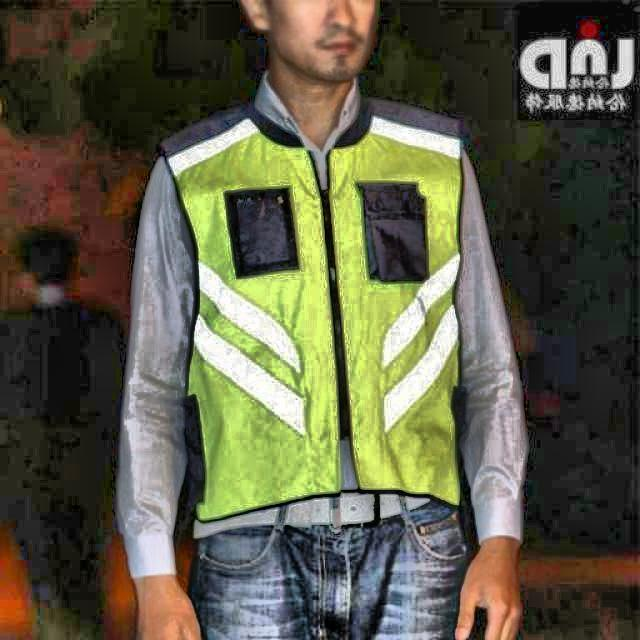safety_jacket: (167, 112, 467, 515)
